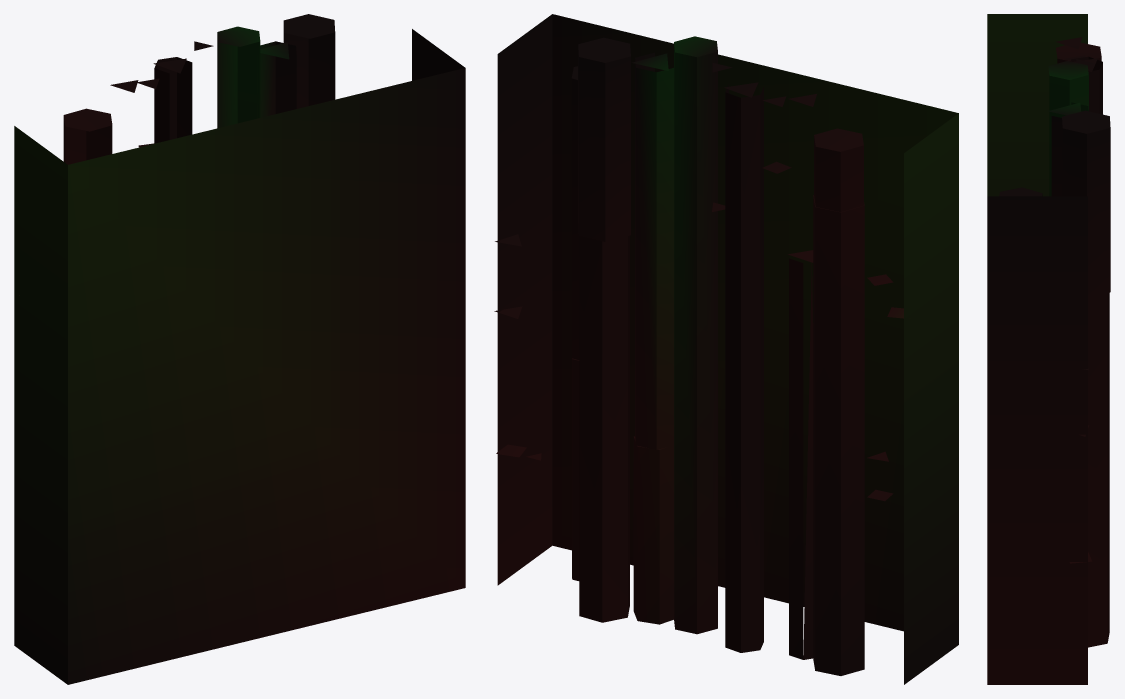
File: tf_basalt_columns_l_15m_lod1.glb
The picture shows the model from 3 angles, left to right: view 1: azimuth 30°, elevation 25°; view 2: azimuth 150°, elevation 25°; view 3: azimuth 270°, elevation 25°; orthographic projection. The views are drawn at different scales.
Visible parts, largest first — view 1: tf_basalt_columns_l_15m_lod1; view 2: tf_basalt_columns_l_15m_lod1; view 3: tf_basalt_columns_l_15m_lod1.
Boxes of the visible parts, x1,y1,x2,y2 form: tf_basalt_columns_l_15m_lod1: (14, 14, 465, 684); tf_basalt_columns_l_15m_lod1: (494, 14, 958, 684); tf_basalt_columns_l_15m_lod1: (987, 14, 1110, 684).
Bounding box in the file's own units: 12.17 × 16.28 × 3.42.
